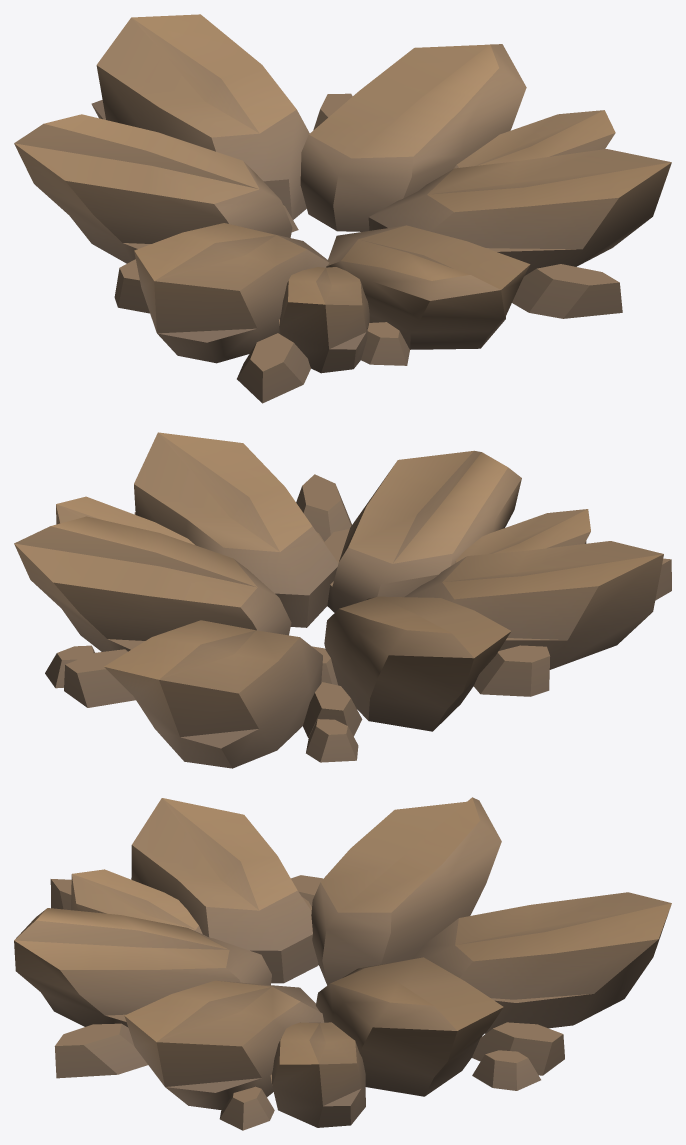
File: LandingImpact.obj
The picture shows the model from 3 angles, top to bottom: view 1: azimuth 30°, elevation 25°; view 2: azimuth 150°, elevation 25°; view 3: azimuth 270°, elevation 25°; orthographic projection. The views are drawn at different scales.
Visible parts, largest first — view 1: LandingImpact; view 2: LandingImpact; view 3: LandingImpact.
Part boxes in pixels (x1=…): LandingImpact: x1=14, y1=14, x2=671, y2=403; LandingImpact: x1=14, y1=432, x2=671, y2=768; LandingImpact: x1=14, y1=797, x2=671, y2=1130.
Size of the model in its own units: 1.74 by 0.3687 by 1.95.
Materials: 1 (1 with a texture image).
